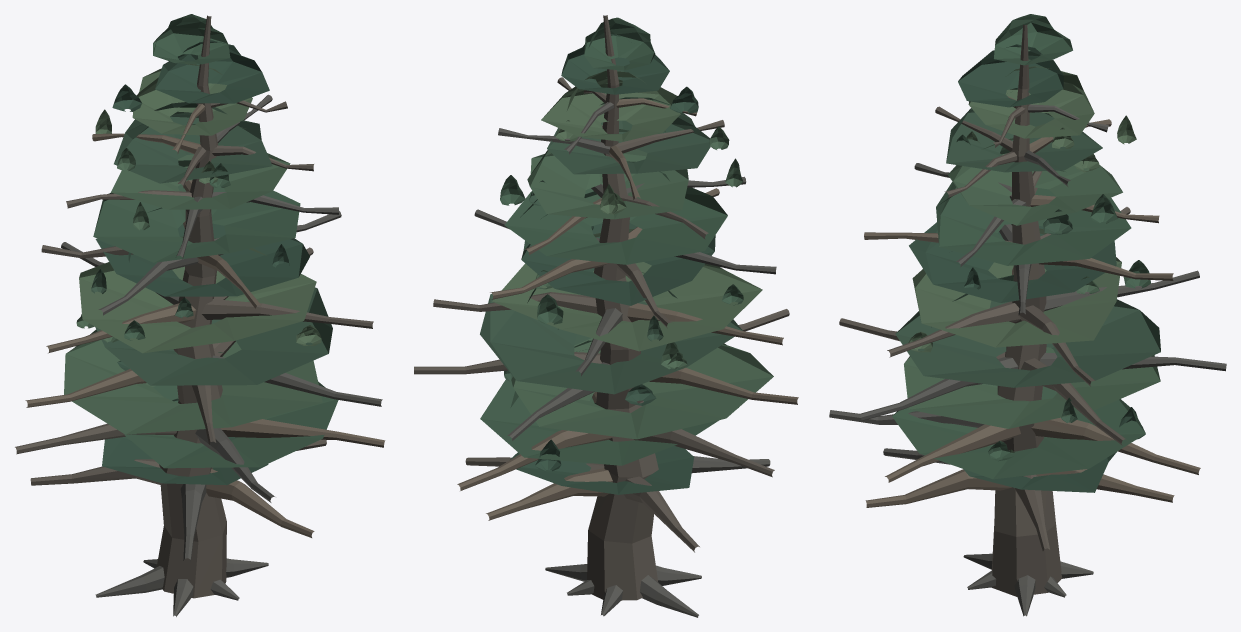
Rendered from Midgard_Natural_Spruce_V3_YUP.glb.
3 views of the same model, side by side, from view 1: azimuth 30°, elevation 25°; view 2: azimuth 150°, elevation 25°; view 3: azimuth 270°, elevation 25° (orthographic).
Visible parts, largest first — view 1: world; view 2: world; view 3: world.
Part boxes in pixels (x1=…): world: x1=15, y1=14, x2=385, y2=616; world: x1=414, y1=15, x2=798, y2=617; world: x1=829, y1=14, x2=1226, y2=616.
Size of the model in its own units: 4.93 by 8.12 by 5.14.
